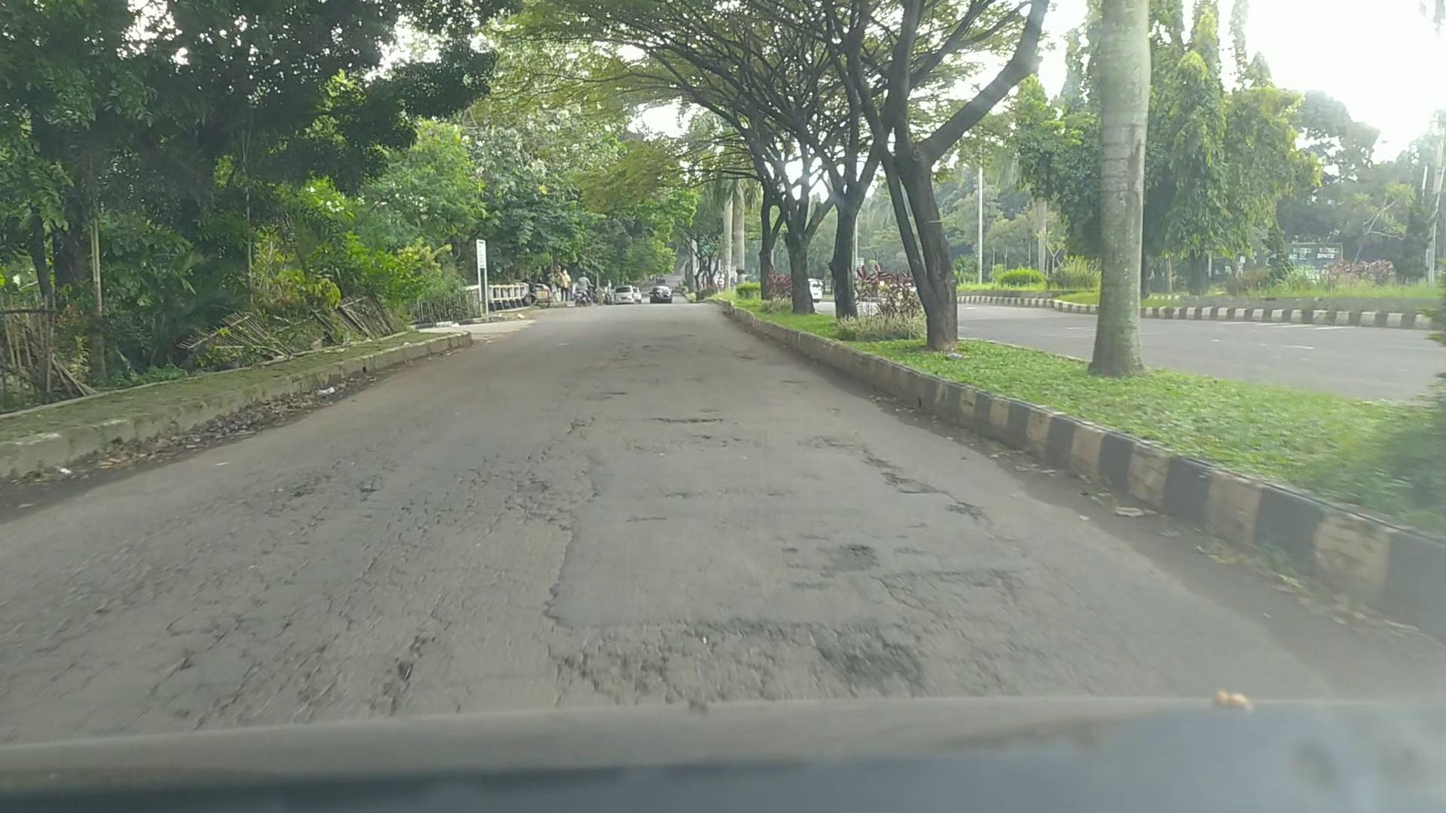pothole: (793, 623, 926, 692)
